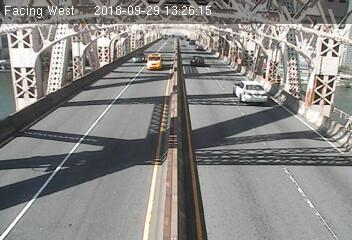car: (233, 79, 270, 102), (147, 55, 165, 71), (132, 50, 147, 61), (189, 54, 204, 65)
